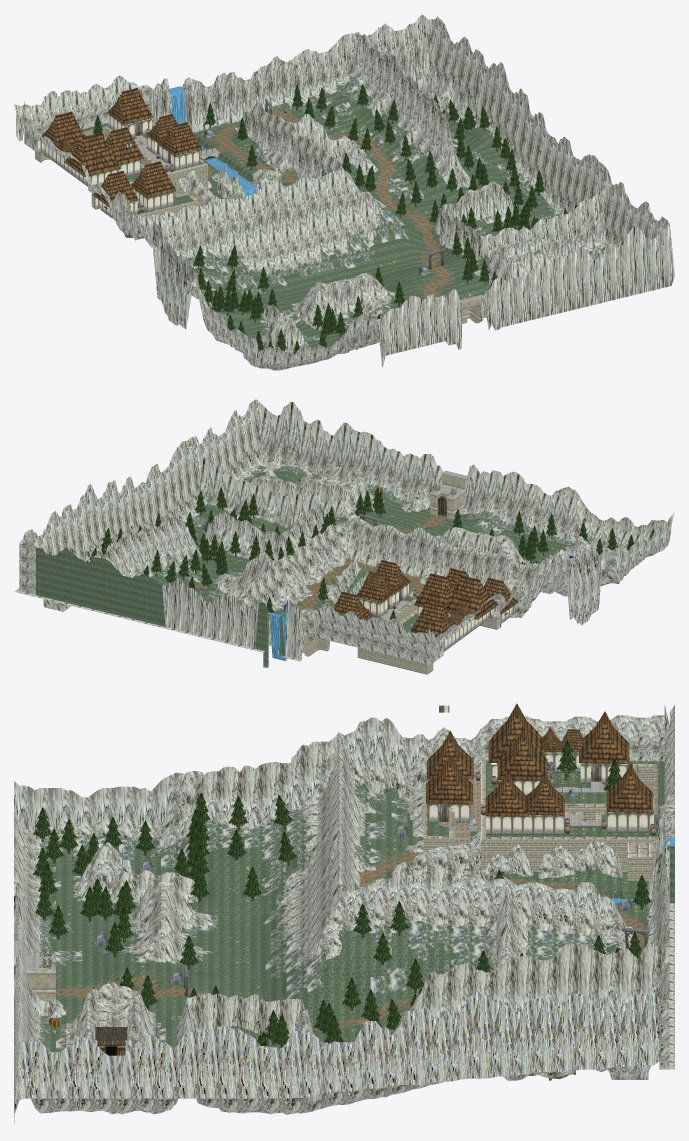
File: azra.gltf
The picture shows the model from 3 angles, top to bottom: view 1: azimuth 30°, elevation 25°; view 2: azimuth 150°, elevation 25°; view 3: azimuth 270°, elevation 25°; orthographic projection. The views are drawn at different scales.
Bounding box in the file's own units: 126 × 38 × 126.
45 materials, 45 textured.
